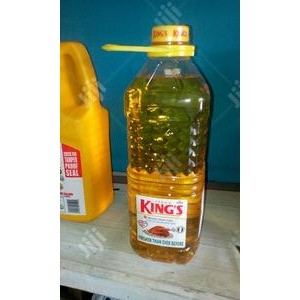vegetable oil_brain food: (123, 104, 213, 257), (65, 46, 106, 225)
